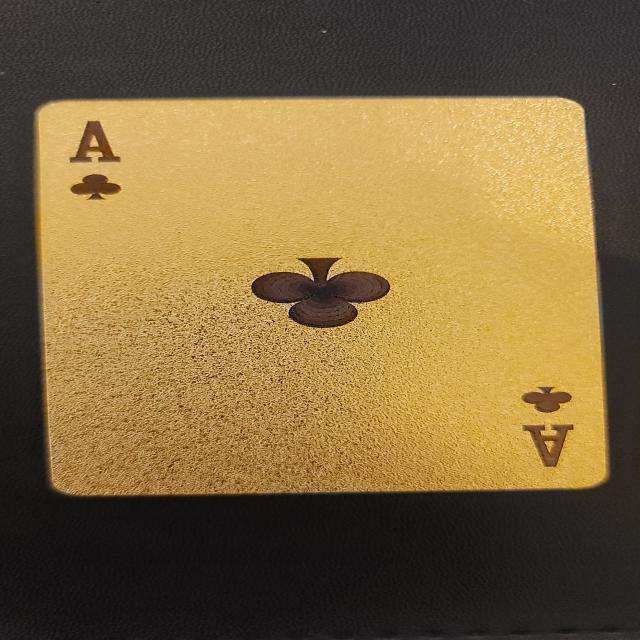Ace of clubs: (37, 98, 609, 497)
